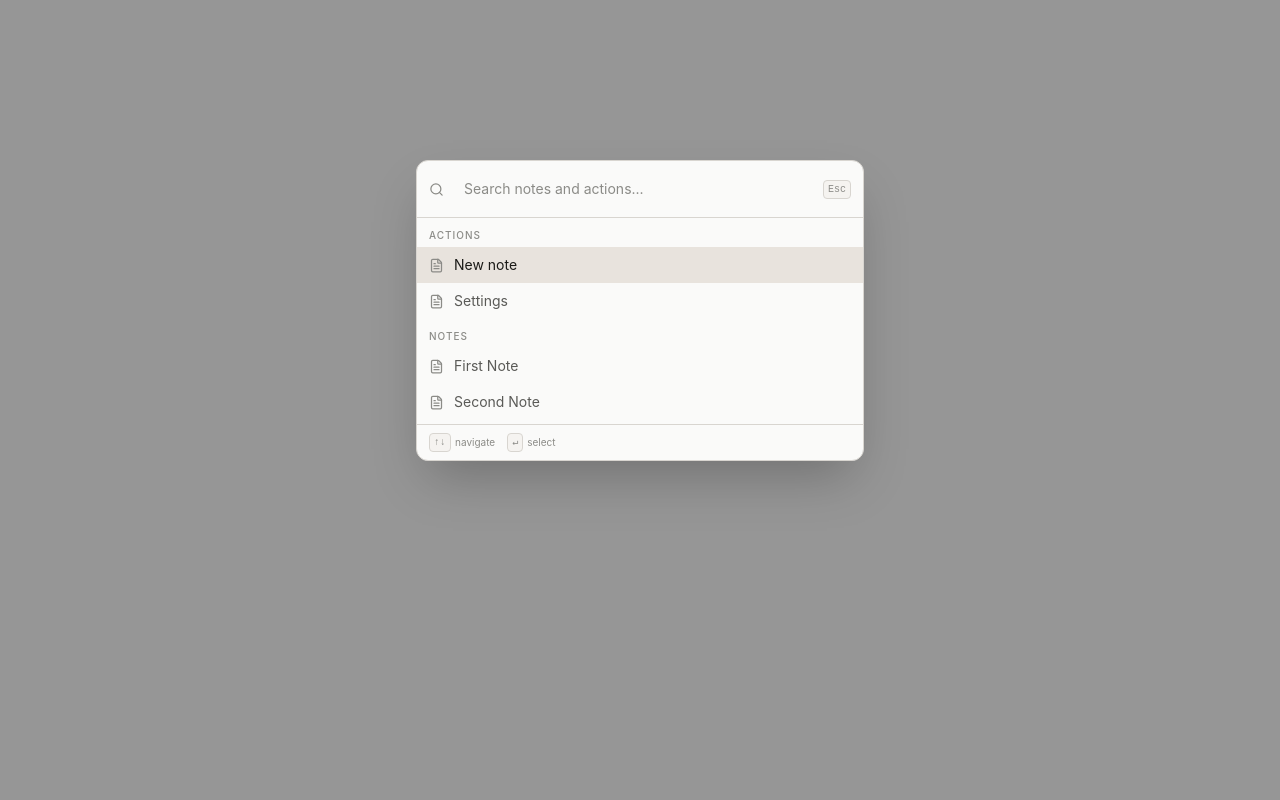
Test: CommandPalette › filters by query
This screenshot has width=1280, height=800.
Type "First" into the dropdown with placeholder "Search notes and actions...". click: (634, 189)
box: [452, 171, 815, 207]
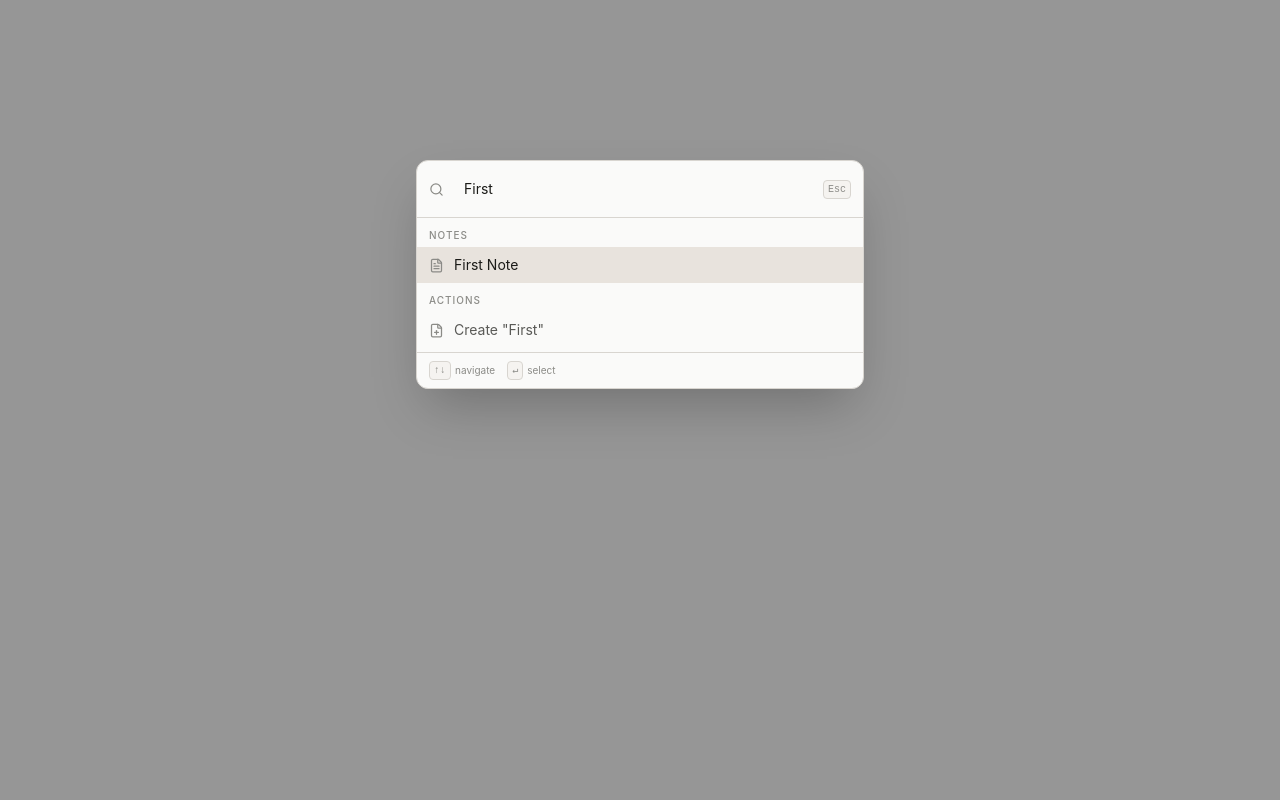
Check: the option "First Note" is shown, box [417, 247, 863, 283]
Check: the option "Second Note" is gone
